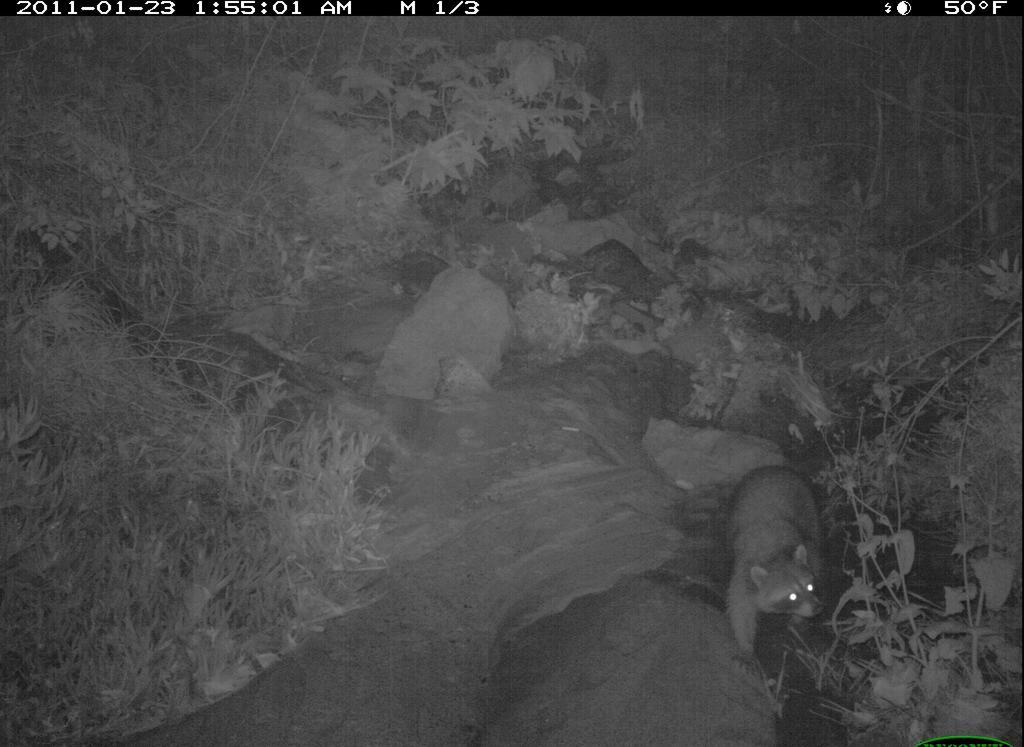raccoon: (717, 461, 835, 680)
